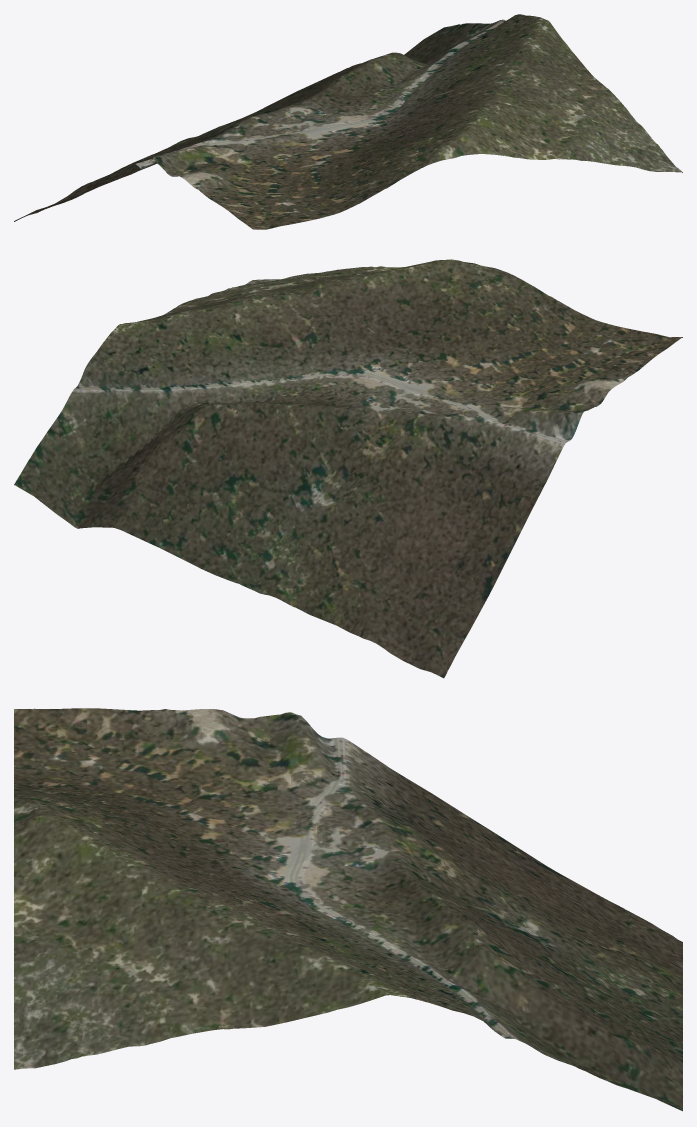
3 renders of one model, top to bottom at view 1: azimuth 30°, elevation 25°; view 2: azimuth 150°, elevation 25°; view 3: azimuth 270°, elevation 25°, orthographic. The views are drawn at different scales.
Bounding box in the file's own units: 500 × 221 × 481.
1 material, 1 textured.
